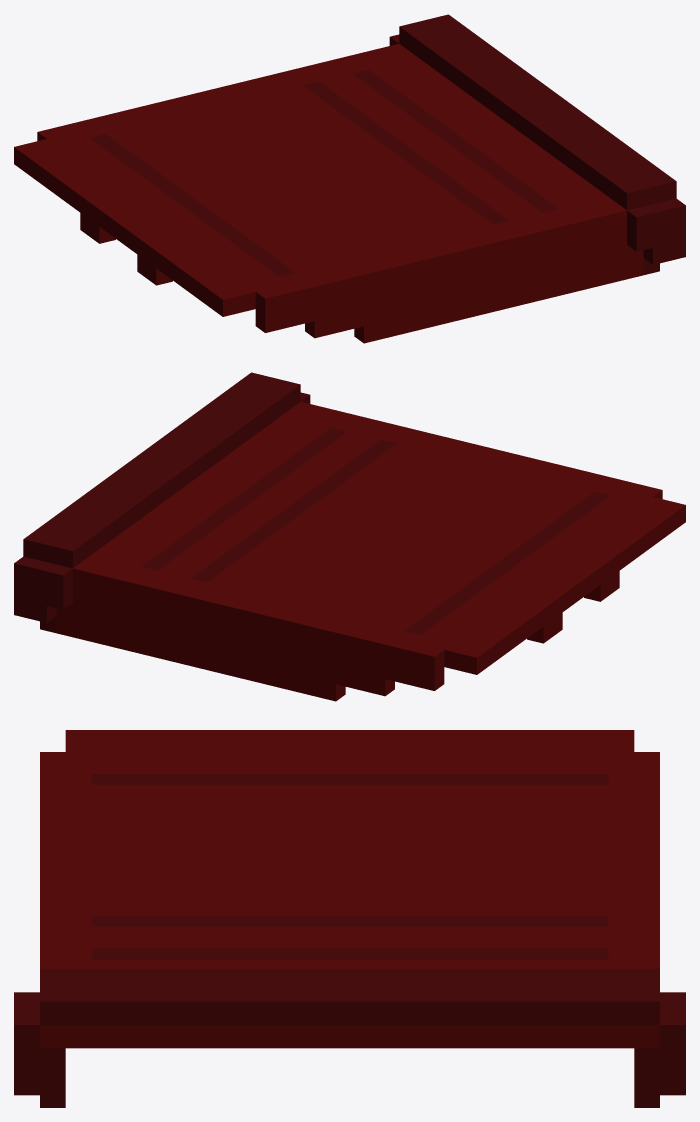
Rendered from F_BedBlanketFull.obj.
The picture shows the model from 3 angles, top to bottom: view 1: azimuth 30°, elevation 25°; view 2: azimuth 150°, elevation 25°; view 3: azimuth 270°, elevation 25°; orthographic projection. The views are drawn at different scales.
Parts seen in each view (by area): view 1: F_BedBlanketFull; view 2: F_BedBlanketFull; view 3: F_BedBlanketFull.
Boxes of the visible parts, bbox=[...] form: F_BedBlanketFull: bbox=[14, 14, 685, 343]; F_BedBlanketFull: bbox=[14, 372, 685, 701]; F_BedBlanketFull: bbox=[14, 730, 685, 1107].
Size of the model in its own units: 2.7 by 0.5 by 2.6.
Materials: 1 (1 with a texture image).
